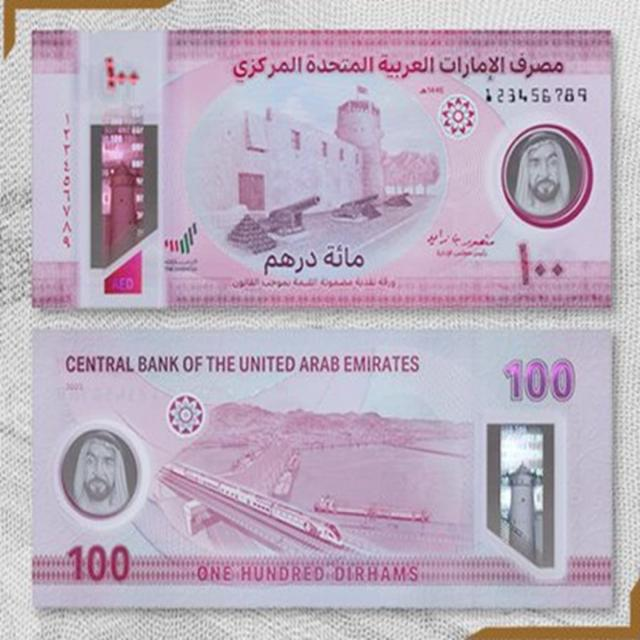100_AED: (33, 327, 612, 605), (36, 33, 613, 306)
